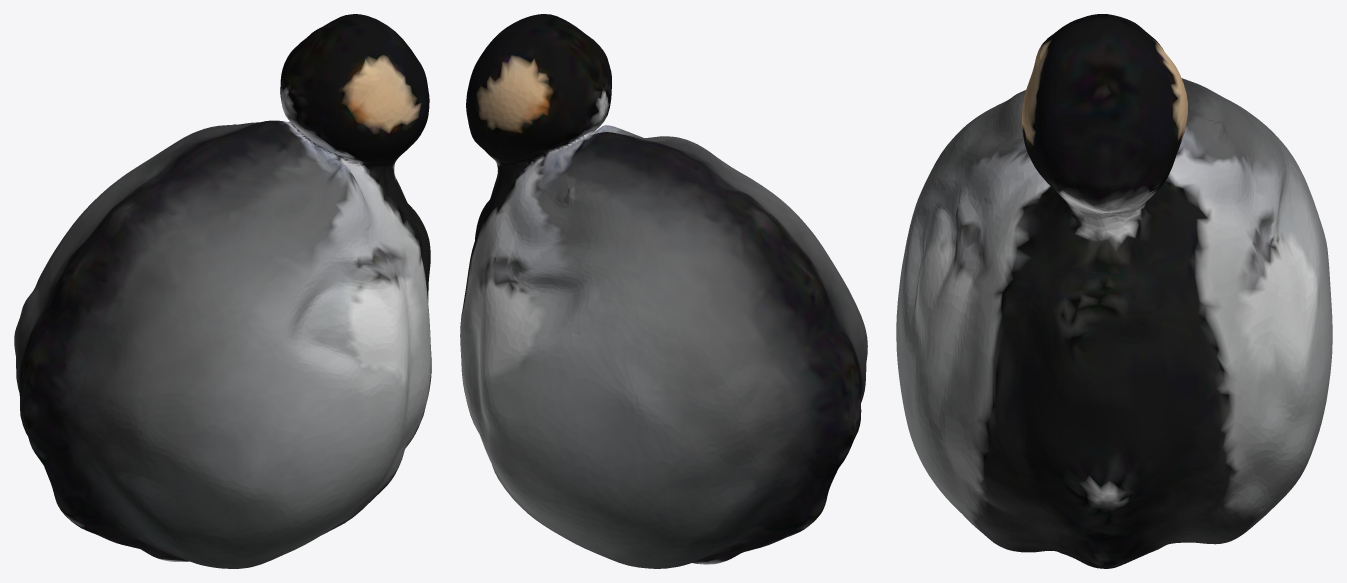
File: potionhero.glb
The picture shows the model from 3 angles, left to right: view 1: azimuth 30°, elevation 25°; view 2: azimuth 150°, elevation 25°; view 3: azimuth 270°, elevation 25°; orthographic projection. The views are drawn at different scales.
Parts seen in each view (by area): view 1: geometry_0; view 2: geometry_0; view 3: geometry_0.
Part boxes in pixels (<box>): geometry_0: <box>14,14,431,568</box>; geometry_0: <box>460,14,867,568</box>; geometry_0: <box>896,14,1332,568</box>.
Bounding box in the file's own units: 0.375 × 0.4644 × 0.3017.
